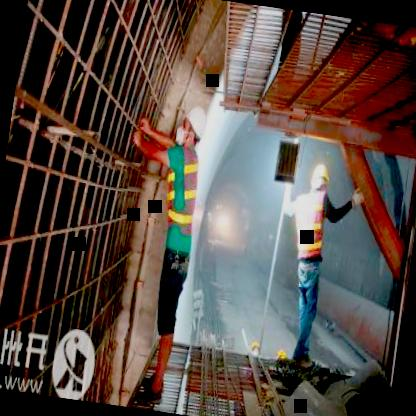helmet: (173, 98, 209, 153), (306, 157, 334, 202)
